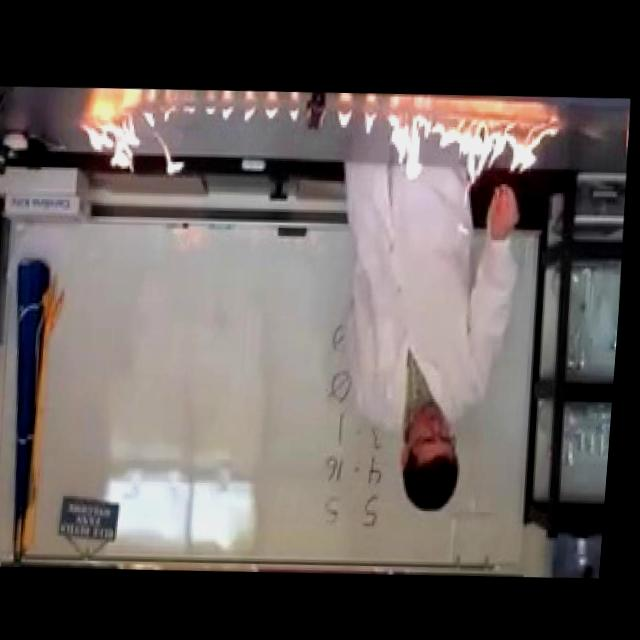helmet: (381, 101, 564, 186), (71, 101, 196, 175), (335, 103, 357, 126), (364, 108, 379, 131), (265, 101, 283, 117), (244, 106, 259, 121), (289, 105, 302, 120)
